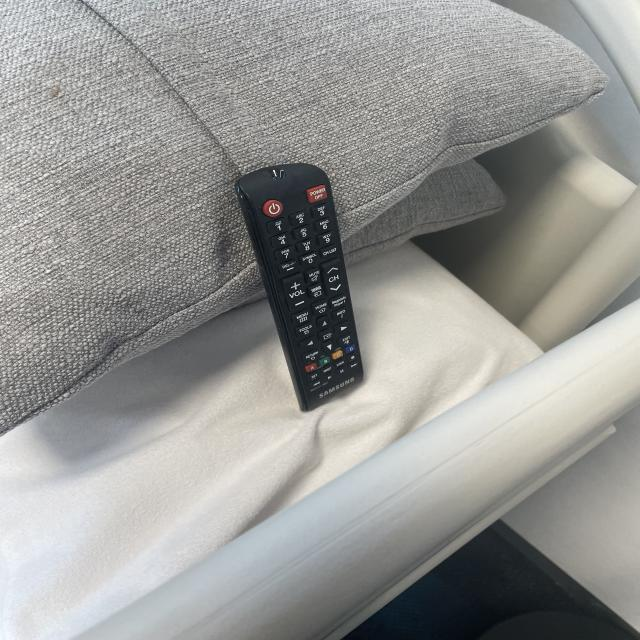remote: (232, 161, 366, 414)
